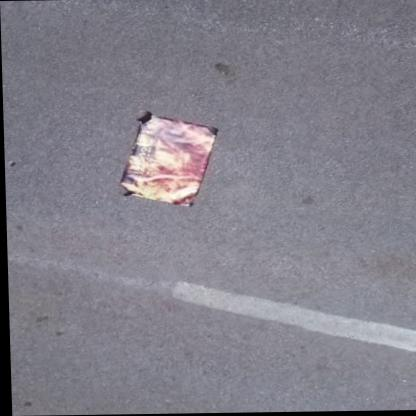fire-poster: (114, 107, 221, 208)
